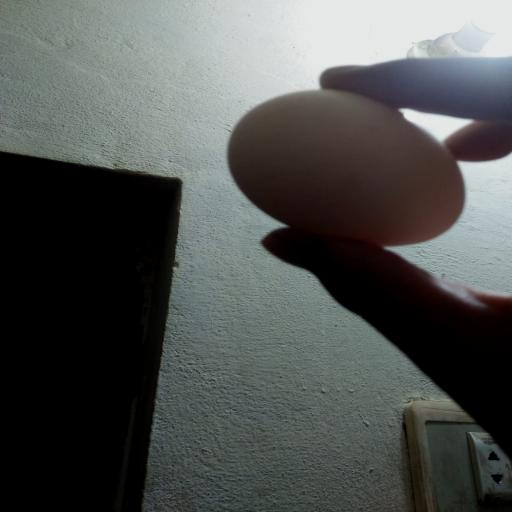telur: (212, 82, 469, 247)
